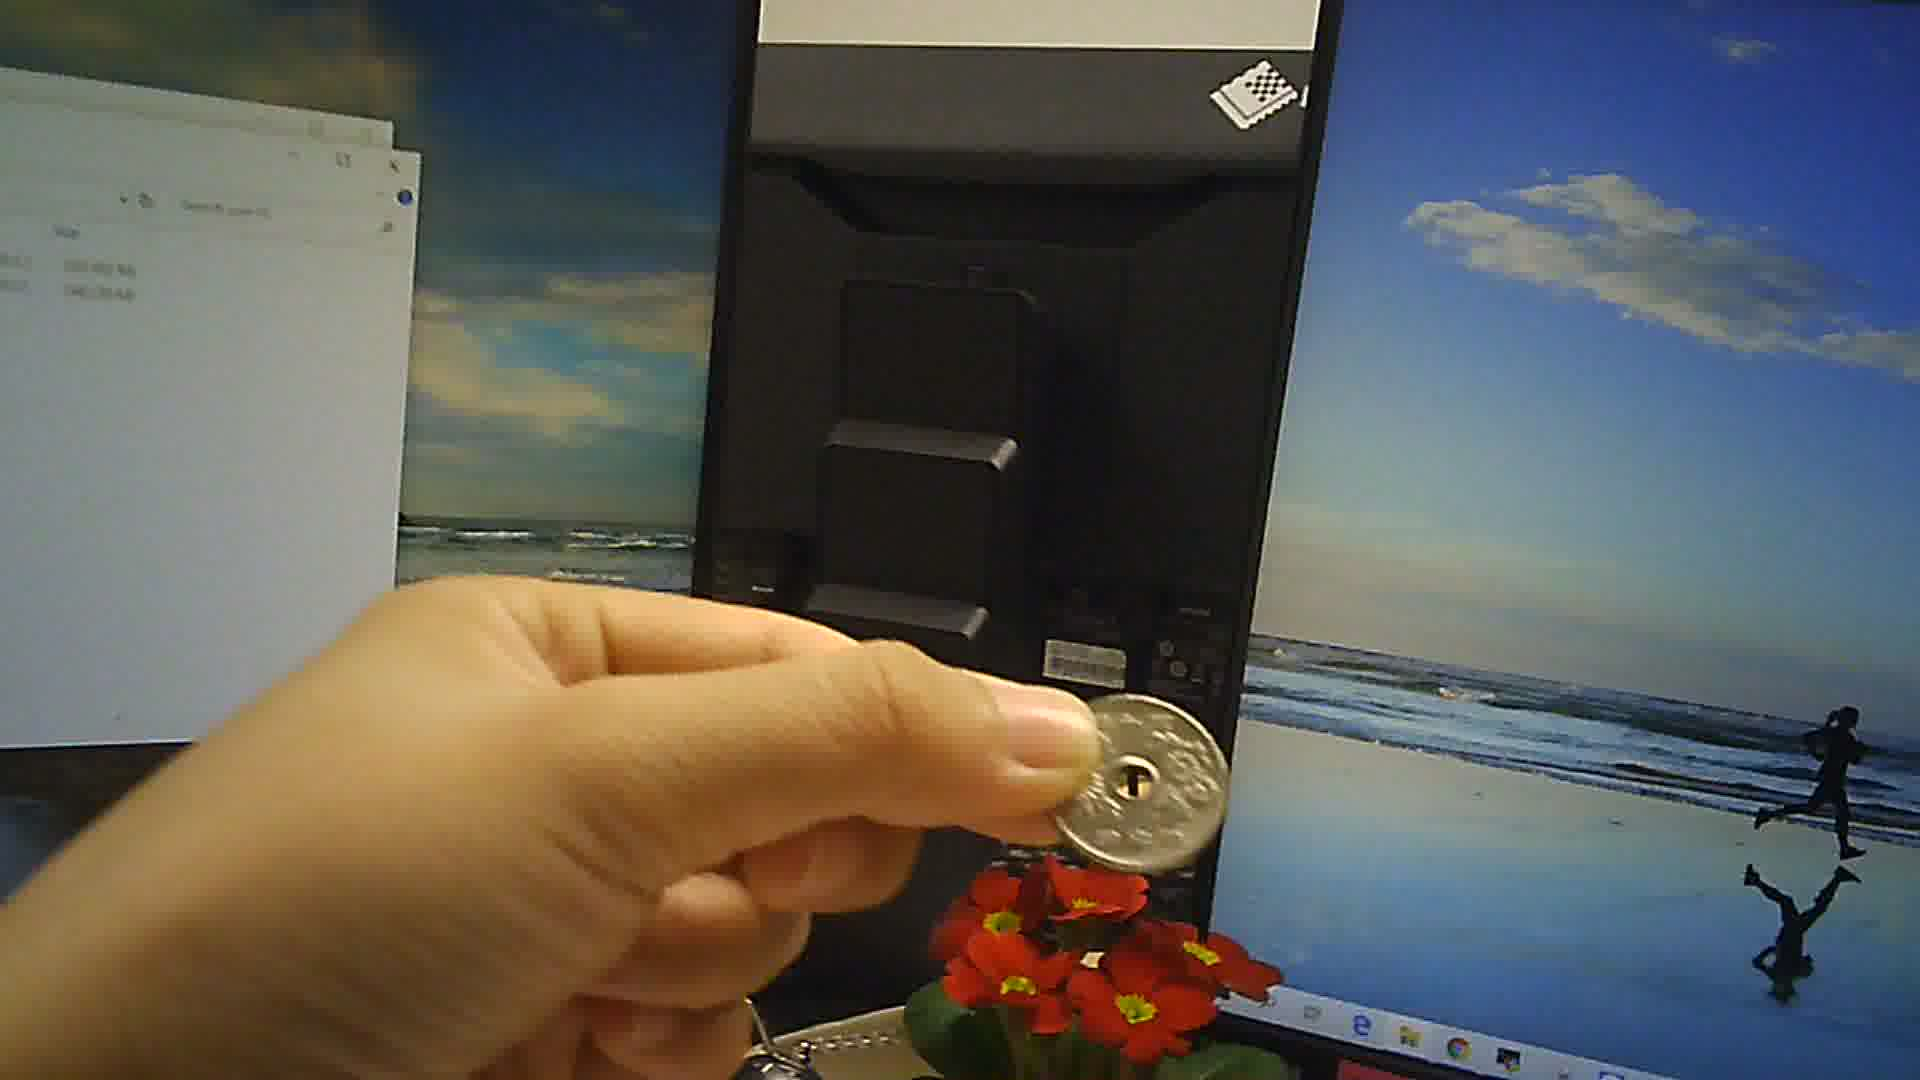50 Yen: (1046, 682, 1228, 881)
